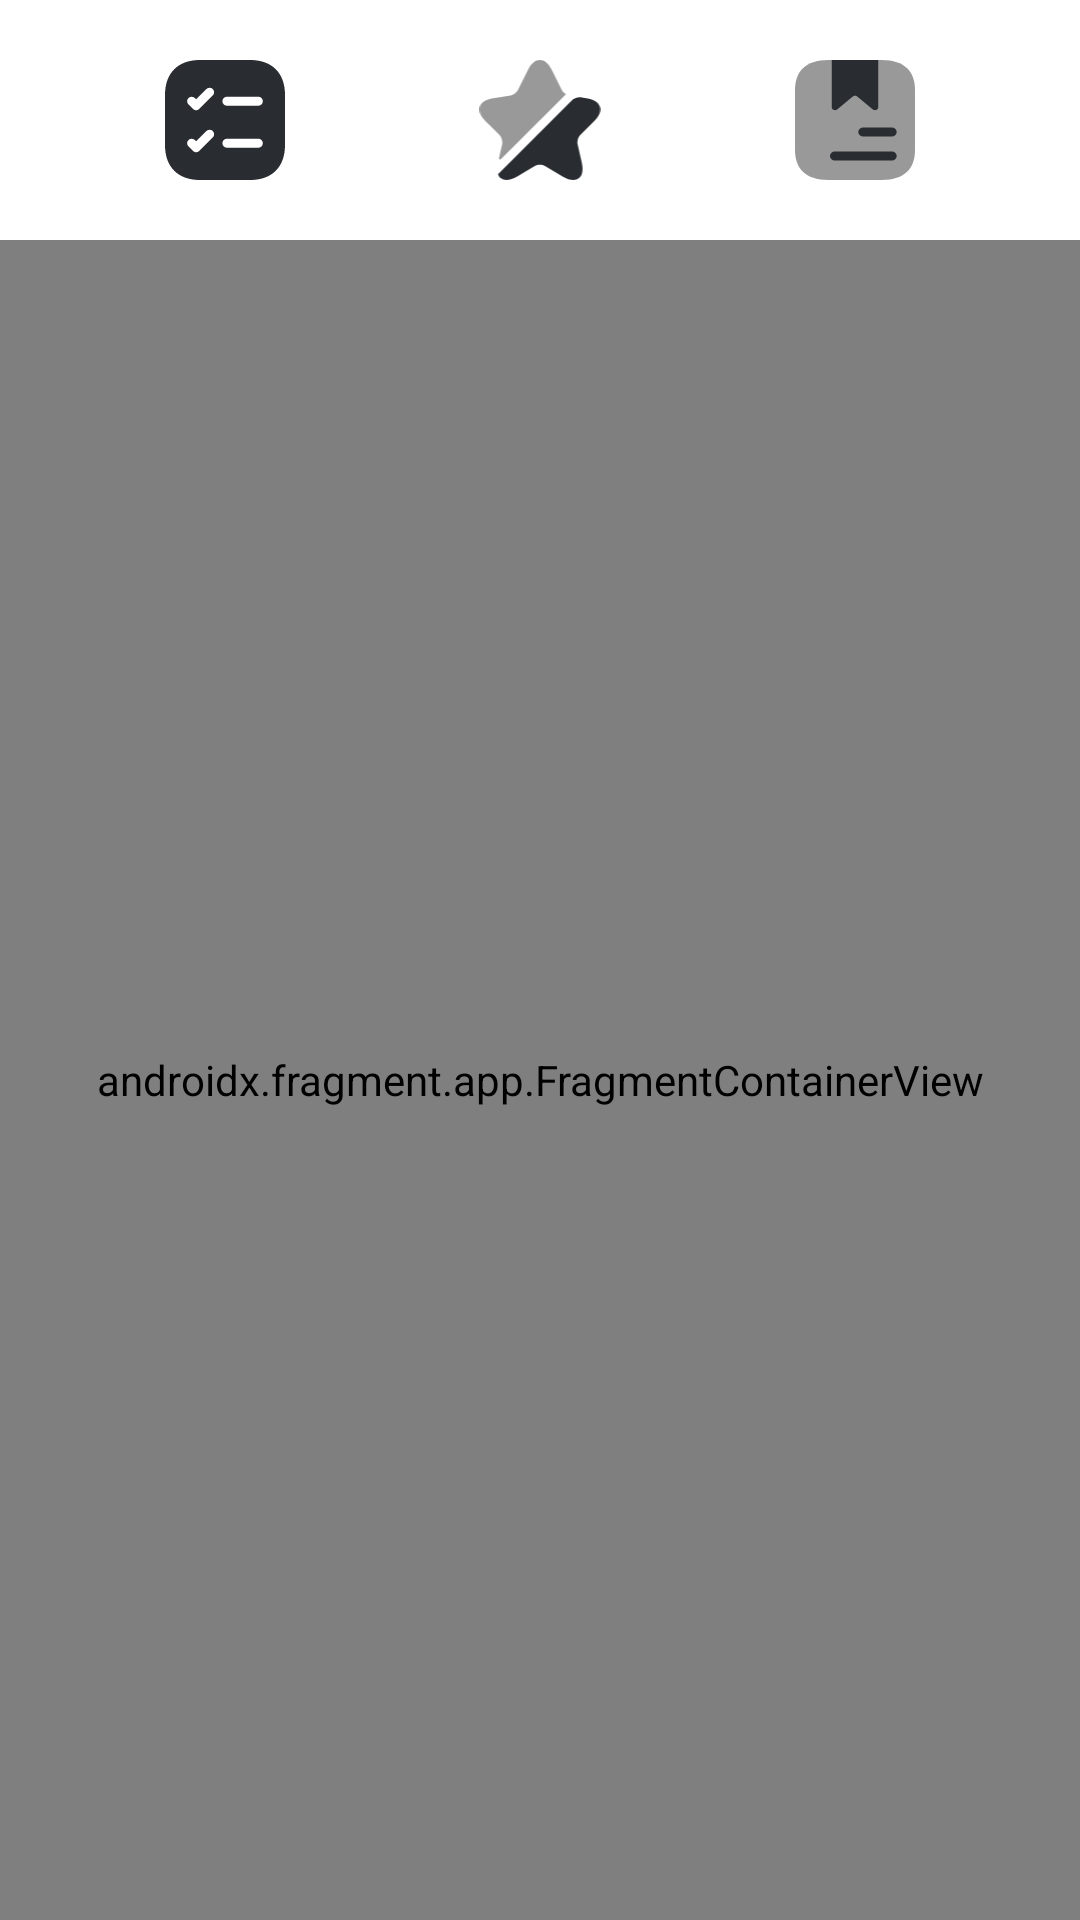

Named icons in this screenshot (1080px x 1920px) and their bounding boxes, [x1, y1, x2, y2]:
all tasks: [165, 60, 285, 180]
favourites: [479, 60, 601, 180]
